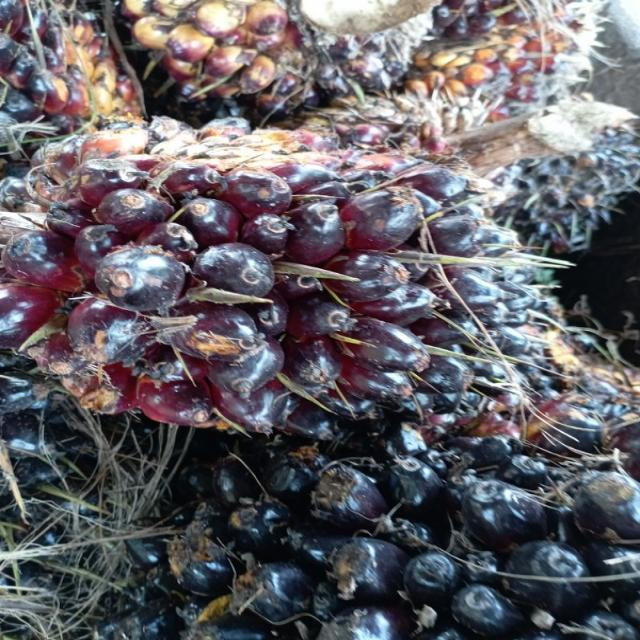fraksi 1: (2, 80, 602, 447)
